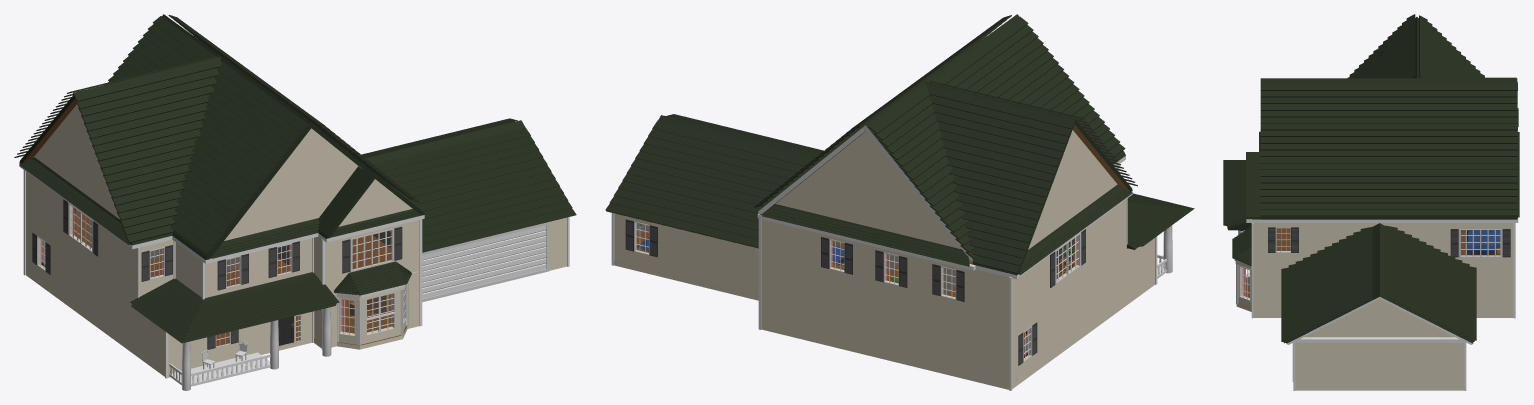
The model's file is LowPolyHouse.fbx.
3 renders of one model, left to right at view 1: azimuth 30°, elevation 25°; view 2: azimuth 150°, elevation 25°; view 3: azimuth 270°, elevation 25°, orthographic. The views are drawn at different scales.
Visible parts, largest first — view 1: Cube.328, Cube.329, Cube.322, Plane.004, Cube.178, Cube.242, Cube.180, Cube.096, Cube.022, Cube.327, Cube.171, Cube.325 (+34 smaller); view 2: Cube.330, Cube.328, Cube.323, Cube.181, Cube.180, Cube.326, Cube.064, Cube.063, Cube.061, Cube.065, Cube.062, Cube.069 (+32 smaller); view 3: Cube.327, Cube.323, Cube.322, Cube.183, Cube.329, Cube.330, Cube.073, Cube.074, Cube.072, Cube.067, Cube.170, Plane.004 (+24 smaller).
Boxes of the visible parts, <box> form: Cube.328: <box>108,16,309,253</box>; Cube.329: <box>73,57,221,242</box>; Cube.322: <box>374,127,576,252</box>; Plane.004: <box>131,274,337,343</box>; Cube.178: <box>224,128,361,240</box>; Cube.242: <box>422,225,546,298</box>; Cube.180: <box>33,104,119,218</box>; Cube.096: <box>26,209,419,299</box>; Cube.022: <box>26,272,419,377</box>; Cube.327: <box>168,15,419,202</box>; Cube.171: <box>162,14,313,259</box>; Cube.325: <box>19,158,130,244</box>; Cube.330: <box>925,83,1075,273</box>; Cube.328: <box>868,16,1125,258</box>; Cube.323: <box>605,120,813,247</box>; Cube.181: <box>775,131,970,260</box>; Cube.180: <box>1028,130,1117,249</box>; Cube.326: <box>762,205,969,266</box>; Cube.064: <box>810,285,860,349</box>; Cube.063: <box>860,297,910,361</box>; Cube.061: <box>910,309,960,373</box>; Cube.065: <box>761,273,809,337</box>; Cube.062: <box>960,322,1006,385</box>; Cube.069: <box>688,231,738,291</box>; Cube.327: <box>1260,82,1517,216</box>; Cube.323: <box>1385,225,1476,341</box>; Cube.322: <box>1281,227,1372,343</box>; Cube.183: <box>1304,299,1454,337</box>; Cube.329: <box>1347,14,1415,78</box>; Cube.330: <box>1419,15,1518,126</box>; Cube.073: <box>1347,342,1395,386</box>; Cube.074: <box>1298,342,1346,386</box>; Cube.072: <box>1396,342,1441,386</box>; Cube.067: <box>1476,270,1510,314</box>; Cube.170: <box>1260,81,1517,219</box>; Plane.004: <box>1223,160,1246,226</box>.
Size of the model in its own units: 2470 by 1244 by 1700.
